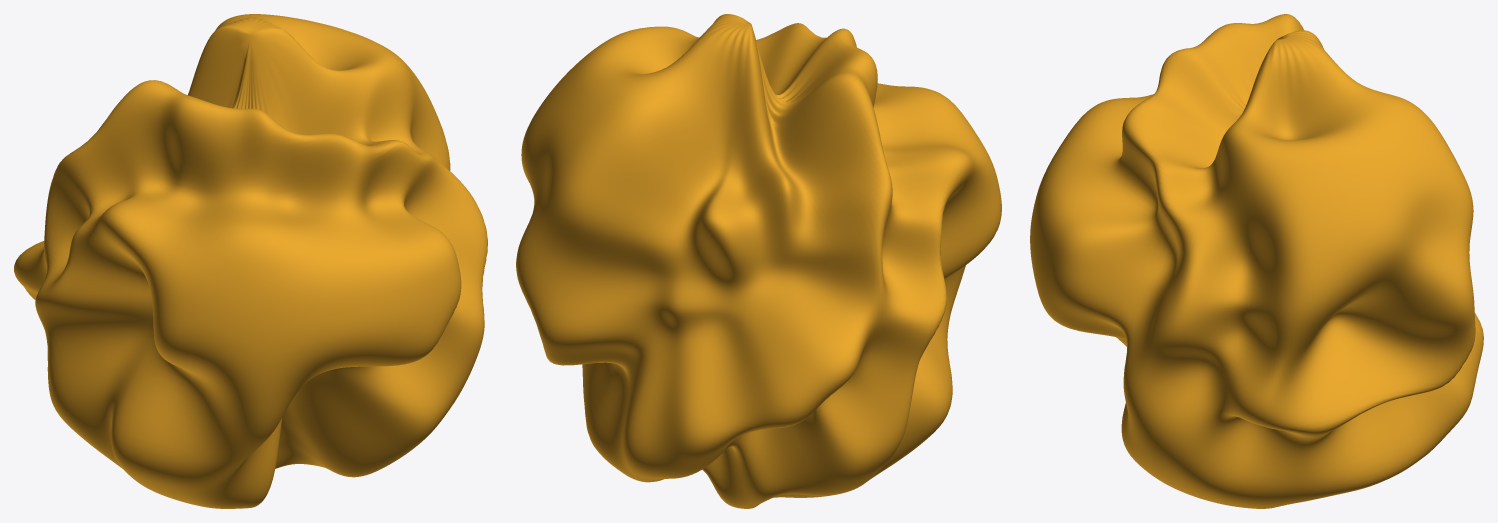
The model's file is form_1.glb.
The picture shows the model from 3 angles, left to right: view 1: azimuth 30°, elevation 25°; view 2: azimuth 150°, elevation 25°; view 3: azimuth 270°, elevation 25°; orthographic projection. The views are drawn at different scales.
Visible parts, largest first — view 1: Sphere; view 2: Sphere; view 3: Sphere.
Part boxes in pixels (box(x1,y1,x2,y2)): Sphere: box(14, 14, 487, 508); Sphere: box(516, 14, 1001, 508); Sphere: box(1030, 14, 1483, 508).
Size of the model in its own units: 0.1475 by 0.1576 by 0.1442.
